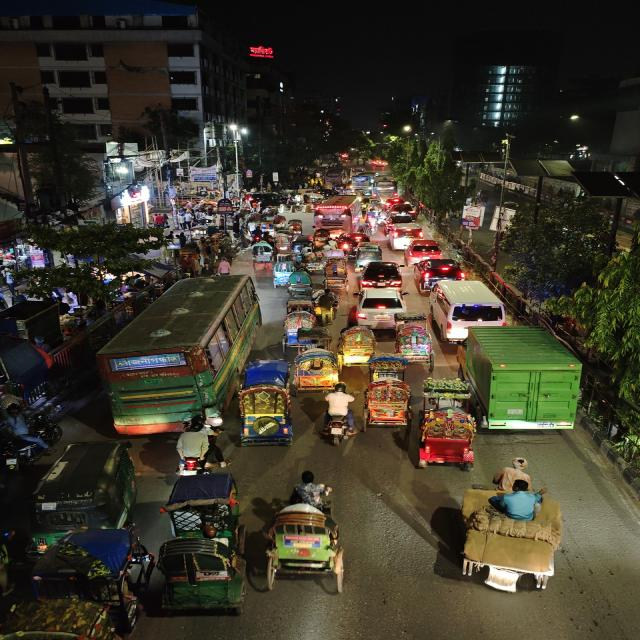bus: (94, 274, 260, 432), (310, 199, 352, 235), (373, 176, 398, 201), (350, 172, 375, 192)
car: (426, 278, 509, 340), (350, 288, 406, 327), (354, 260, 404, 290), (415, 257, 468, 281), (404, 239, 446, 262), (387, 226, 427, 247), (386, 202, 418, 218)
cng: (30, 437, 139, 541)
motorcycle: (0, 410, 61, 472), (174, 422, 216, 476), (318, 388, 357, 446), (368, 216, 378, 236)
pedestrian: (173, 424, 216, 476), (315, 288, 339, 324)
rickshaw: (438, 456, 576, 596), (0, 526, 146, 640), (257, 474, 356, 594), (150, 535, 250, 619), (235, 358, 296, 450), (164, 470, 241, 540), (412, 402, 477, 472), (362, 368, 414, 430), (294, 346, 343, 394), (394, 313, 434, 363), (337, 325, 378, 366), (268, 253, 309, 289), (280, 307, 315, 347), (246, 241, 276, 272), (353, 242, 383, 266), (321, 251, 346, 277), (304, 248, 327, 274), (291, 238, 314, 260), (286, 218, 304, 234)
truck: (457, 325, 585, 435)
